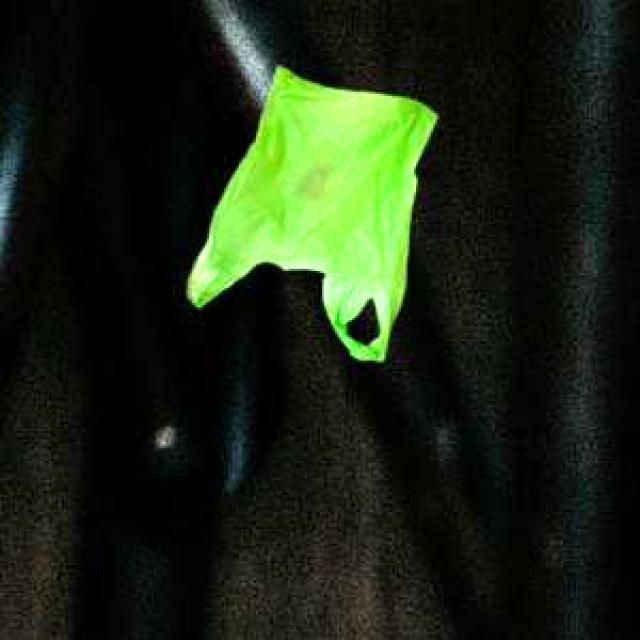Plastic_Bag: (184, 65, 434, 358)
